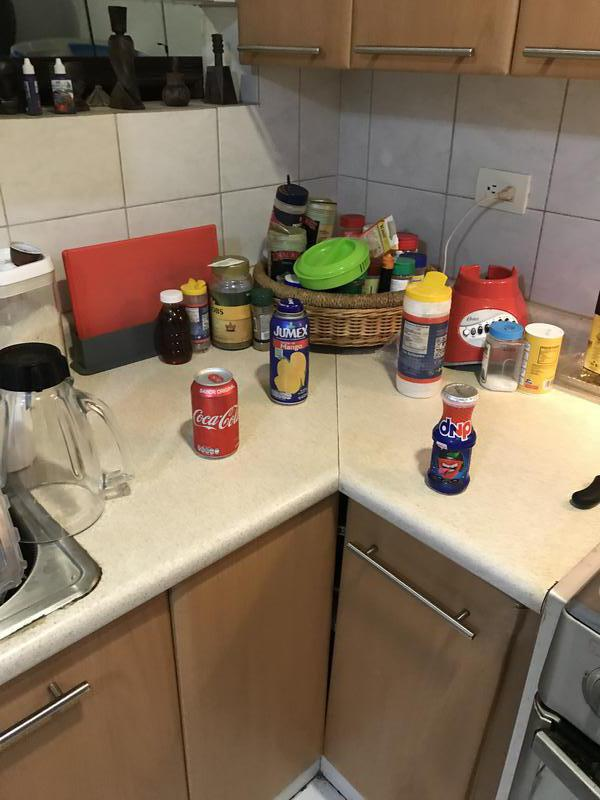coca_cola: (191, 369, 241, 459)
danup: (429, 384, 476, 499)
jugo_jumex: (267, 298, 311, 407)
